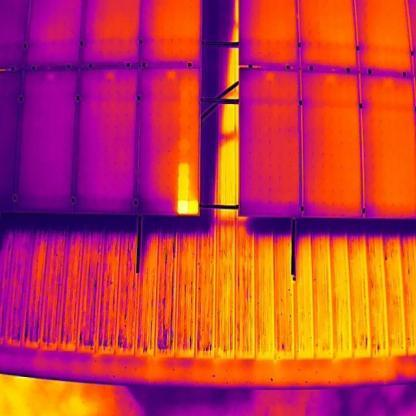anomaly: (175, 160, 199, 218)
